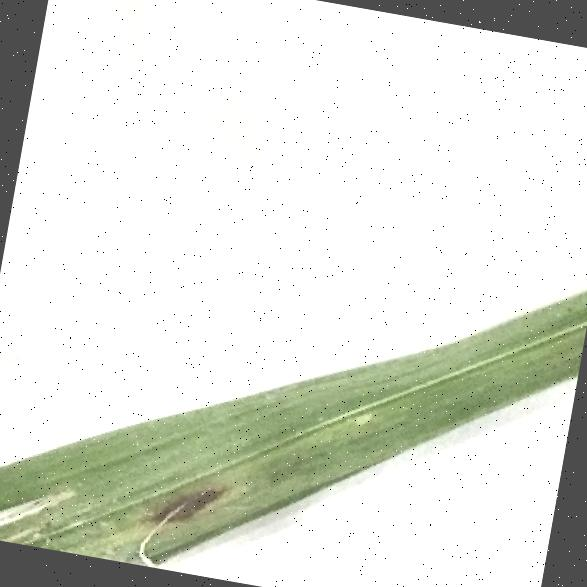Leaf_smut: (136, 460, 228, 538)
